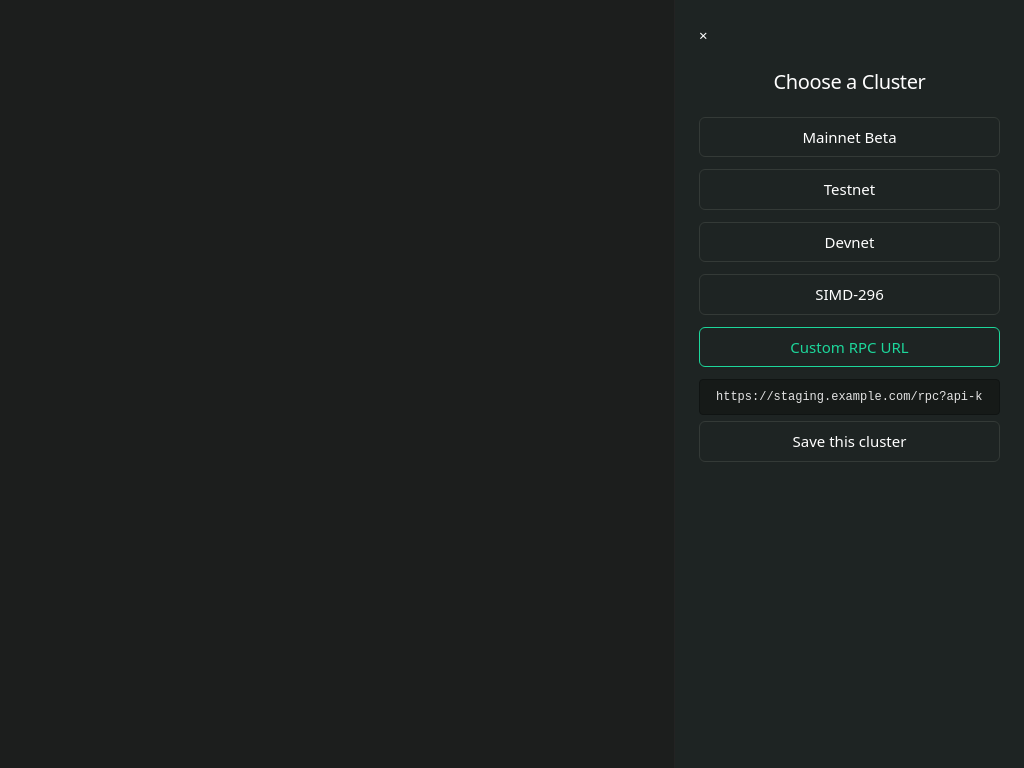
ClusterModal › should prefill the name with the endpoint host after clicking Save this cluster
Step 1. Click the button with test id "save-custom-cluster-btn" → (850, 441), box [699,421,1000,462]
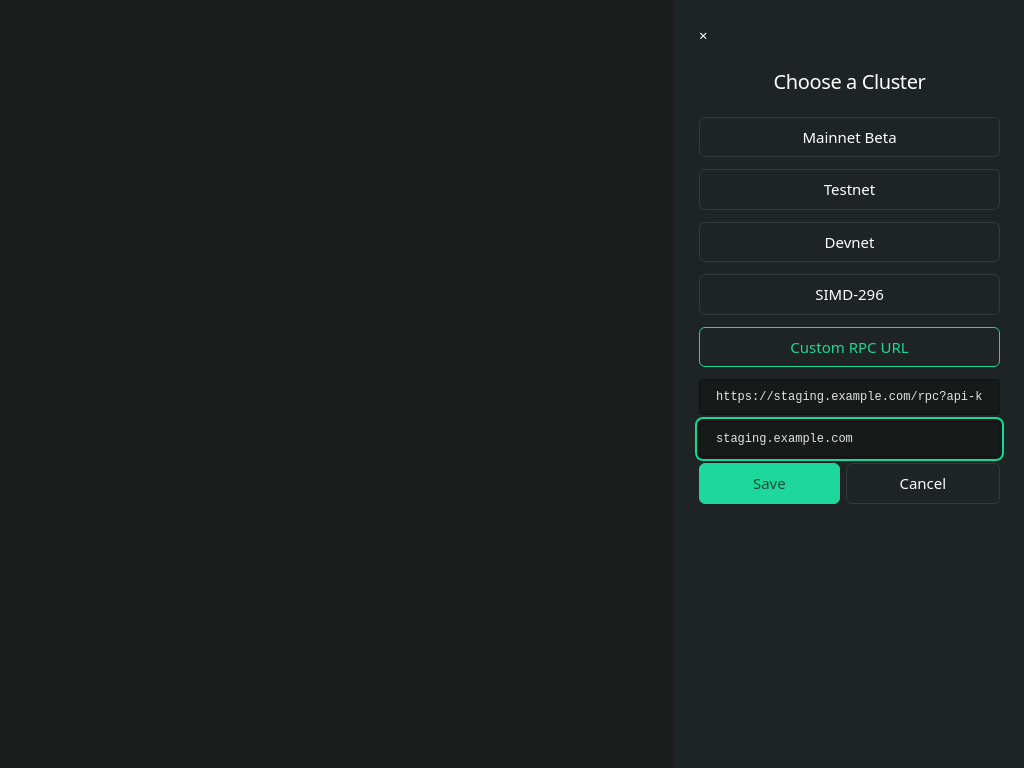
Expected: the field with test id "cluster-name-input" holds "staging.example.com", [699,421,1000,457]
